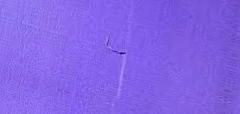snag: (103, 30, 130, 57)
